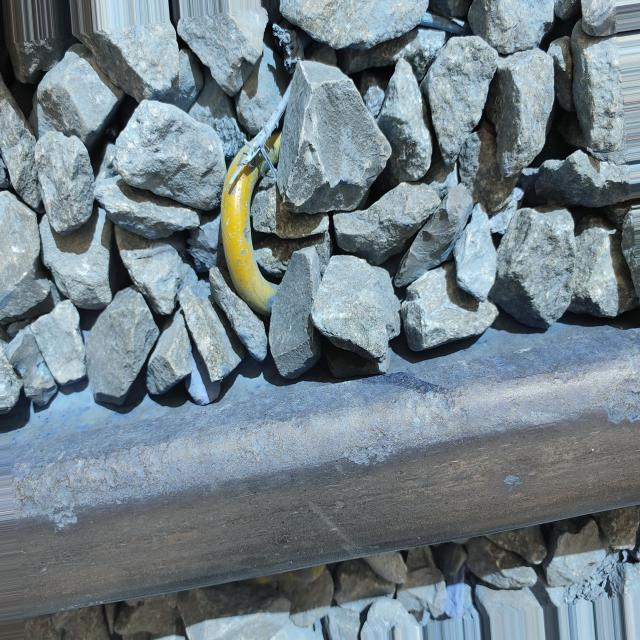Good Fasteners: (221, 147, 276, 315)
